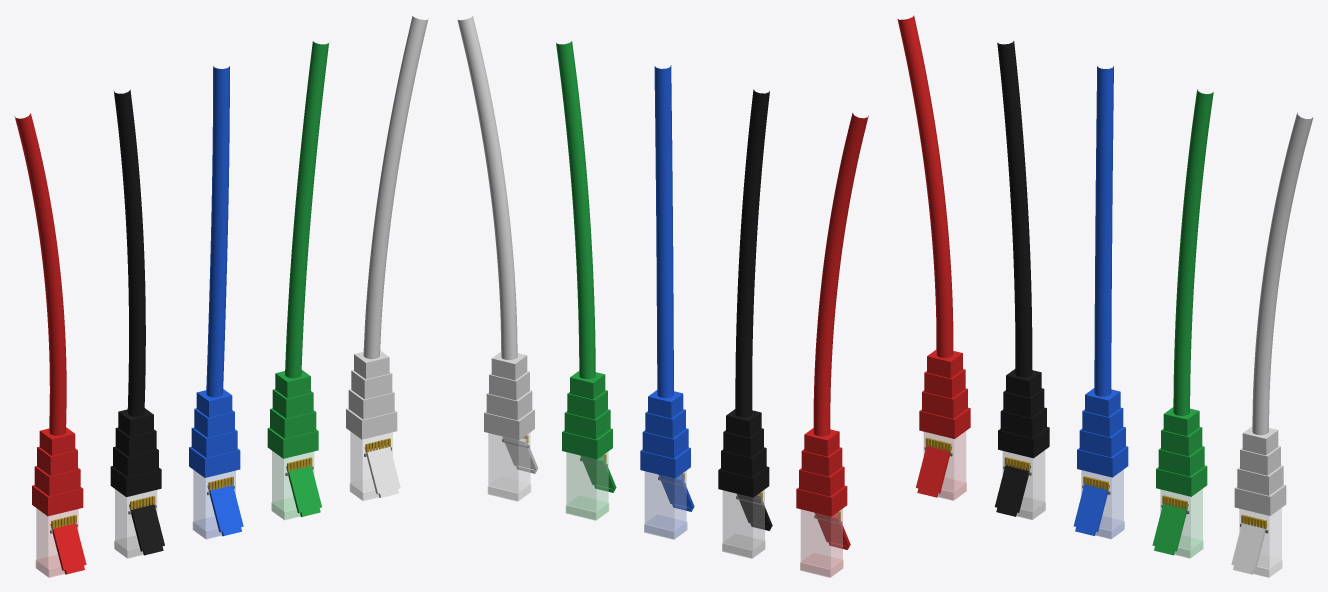
File: 05-patch-cables-5color-rj45.glb
3 views of the same model, side by side, from view 1: azimuth 30°, elevation 25°; view 2: azimuth 150°, elevation 25°; view 3: azimuth 330°, elevation 25° (orthographic).
Bounding box in the file's own units: 0.1573 × 0.1707 × 0.0175.
